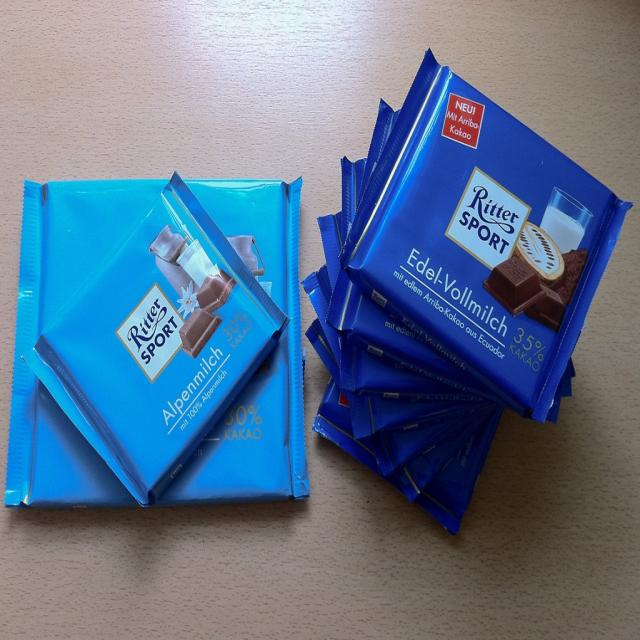rittersport: (443, 167, 531, 281), (118, 286, 194, 384)
